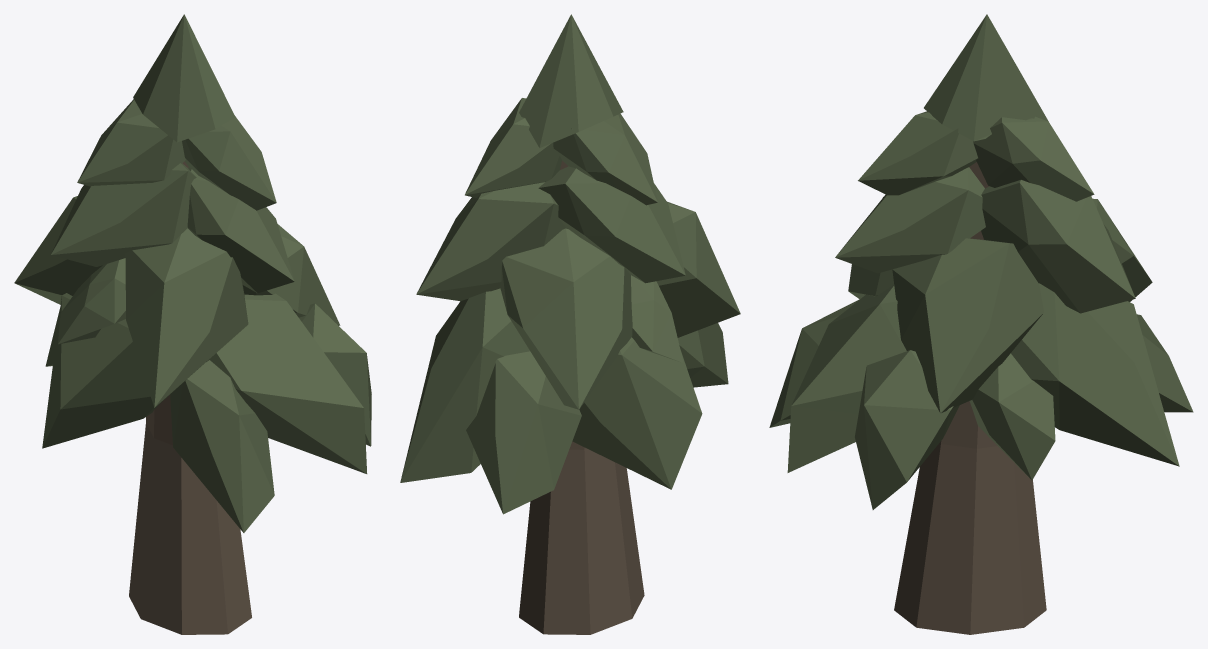
File: ConiferTree3.fbx
3 views of the same model, side by side, from view 1: azimuth 30°, elevation 25°; view 2: azimuth 150°, elevation 25°; view 3: azimuth 270°, elevation 25° (orthographic).
Parts seen in each view (by area): view 1: tree; view 2: tree; view 3: tree.
Part boxes in pixels (x1=…): tree: x1=14, y1=14, x2=371, y2=634; tree: x1=400, y1=14, x2=740, y2=634; tree: x1=769, y1=14, x2=1193, y2=634.
Size of the model in its own units: 310 by 633 by 407.
